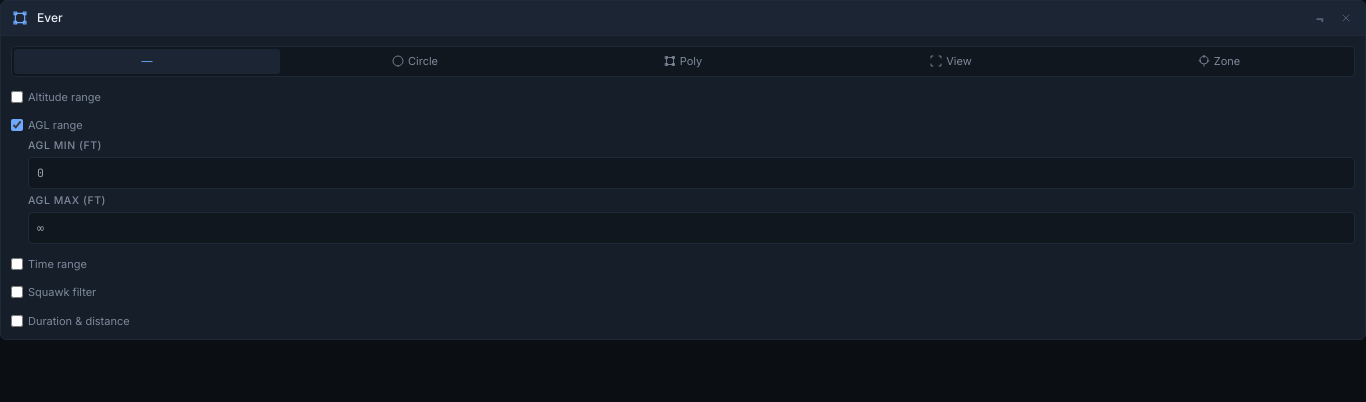
Test: QueryBuilderBody › IntersectsCard › shows squawk input after checking Squawk filter
Click the checkbox labelled "Squawk filter" at (17, 292), box [11, 286, 23, 298]
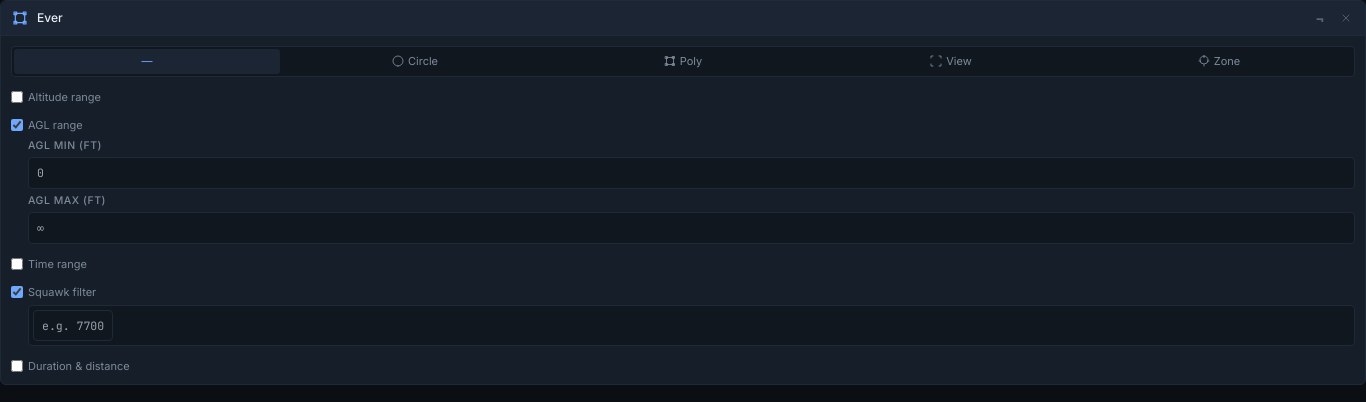
expect the field with placeholder "e.g. 7700" is shown: met, box [33, 310, 113, 341]
